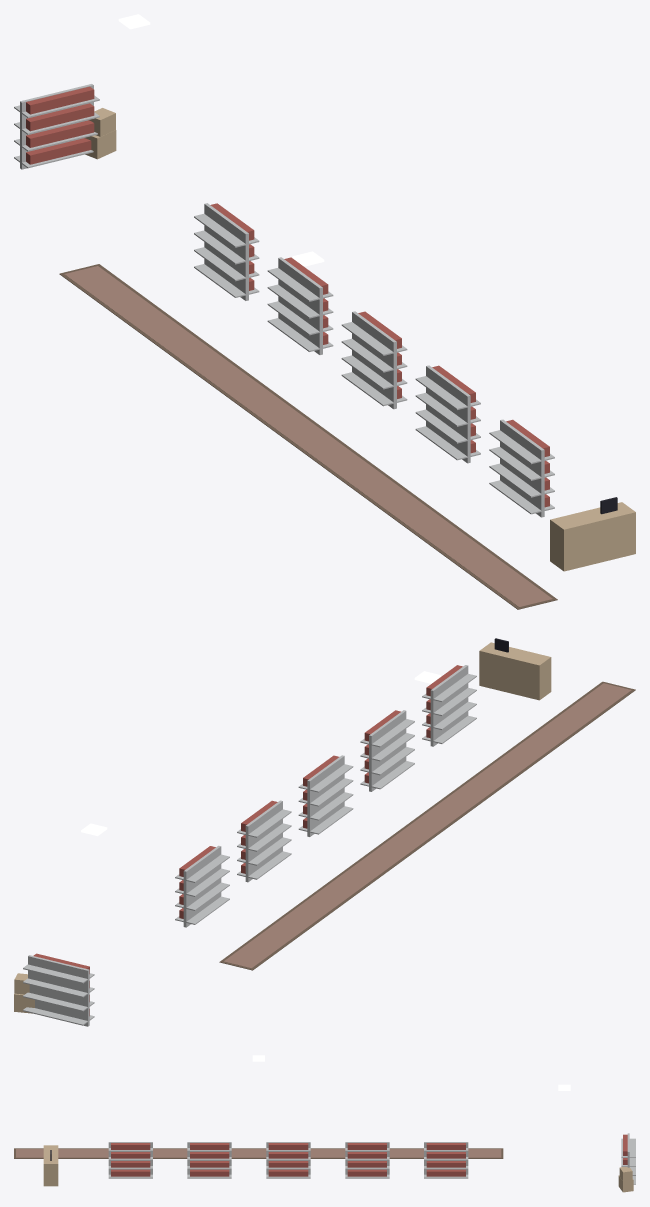
The model's file is fine-s0.glb.
3 views of the same model, one above another, from view 1: azimuth 30°, elevation 25°; view 2: azimuth 150°, elevation 25°; view 3: azimuth 270°, elevation 25° (orthographic). The views are drawn at different scales.
Parts seen in each view (by area): view 1: soft-s0, shelving.000, shop-counter.000, shelf.000, shelf.001, shelf.003, shelf.004, shelf.002, cardboard-box.000; view 2: soft-s0, shelving.000, shop-counter.000, shelf.000, shelf.004, shelf.003, shelf.002, shelf.001, cardboard-box.000; view 3: soft-s0, shelf.000, shelf.001, shelf.002, shelf.003, shelf.004, shop-counter.000, shelving.000, cardboard-box.000.
Boxes of the visible parts, bbox=[...] form: soft-s0: bbox=[59, 264, 557, 609]; shelving.000: bbox=[14, 84, 99, 169]; shop-counter.000: bbox=[550, 497, 635, 571]; shelf.000: bbox=[194, 203, 259, 300]; shelf.001: bbox=[267, 257, 333, 354]; shelf.003: bbox=[415, 365, 480, 463]; shelf.004: bbox=[489, 419, 554, 517]; shelf.002: bbox=[341, 311, 407, 409]; cardboard-box.000: bbox=[85, 108, 116, 159]; soft-s0: bbox=[219, 681, 635, 970]; shelving.000: bbox=[23, 953, 94, 1026]; shop-counter.000: bbox=[479, 638, 551, 700]; shelf.000: bbox=[175, 845, 229, 927]; shelf.004: bbox=[422, 665, 476, 746]; shelf.003: bbox=[360, 710, 414, 791]; shelf.002: bbox=[298, 755, 353, 836]; shelf.001: bbox=[237, 800, 291, 882]; cardboard-box.000: bbox=[14, 973, 34, 1013]; soft-s0: bbox=[14, 1148, 503, 1158]; shelf.000: bbox=[424, 1142, 468, 1178]; shelf.001: bbox=[345, 1142, 389, 1178]; shelf.002: bbox=[266, 1142, 310, 1178]; shelf.003: bbox=[187, 1142, 231, 1178]; shelf.004: bbox=[108, 1142, 152, 1178]; shop-counter.000: bbox=[43, 1145, 58, 1186]; shelving.000: bbox=[621, 1133, 635, 1184]; cardboard-box.000: bbox=[618, 1167, 633, 1192].
Bounding box in the file's own units: 4.23 × 4.28 × 25.24.
